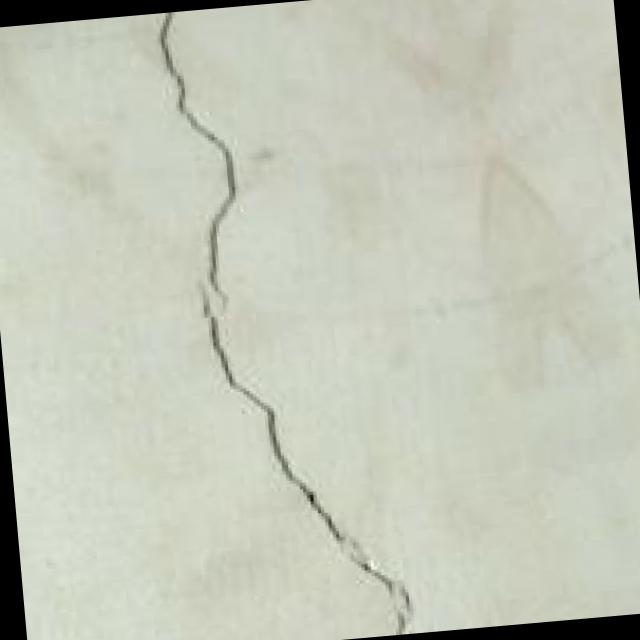crack: (104, 0, 427, 640)
